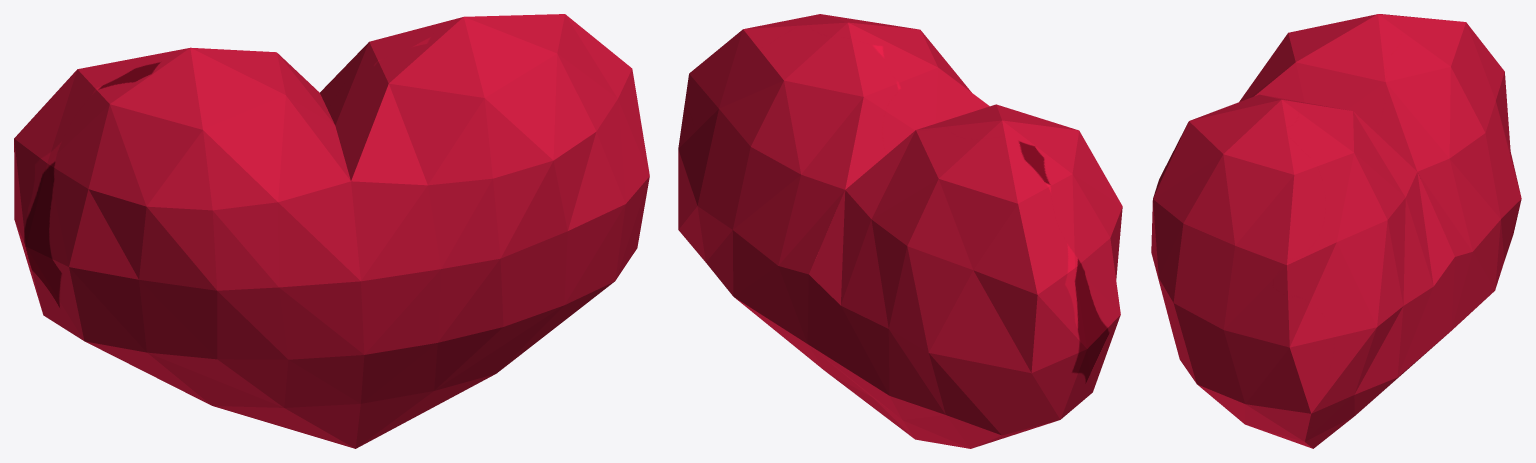
File: heart (1).glb
3 views of the same model, side by side, from view 1: azimuth 30°, elevation 25°; view 2: azimuth 150°, elevation 25°; view 3: azimuth 270°, elevation 25° (orthographic). The views are drawn at different scales.
Parts seen in each view (by area): view 1: node_id8; view 2: node_id8; view 3: node_id8.
Boxes of the visible parts, left/top/right/bottom form: node_id8: left=14, top=14, right=649, bottom=448; node_id8: left=678, top=14, right=1122, bottom=448; node_id8: left=1151, top=14, right=1521, bottom=448.
Bounding box in the file's own units: 0.4962 × 0.3768 × 0.3241.
1 material, 1 textured.
